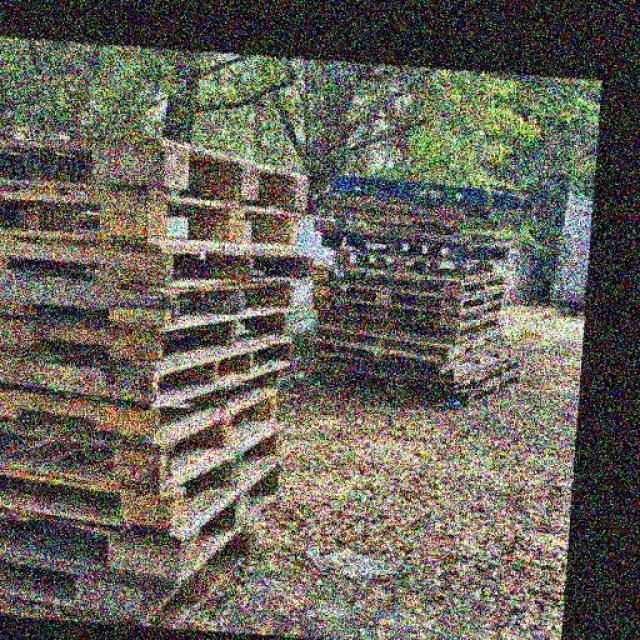non-igps: (0, 449, 290, 596), (0, 413, 300, 552), (0, 496, 268, 639), (0, 380, 291, 510), (0, 115, 316, 226), (0, 170, 308, 267), (0, 359, 291, 460), (0, 292, 297, 388), (0, 323, 301, 417), (0, 219, 325, 299), (0, 266, 302, 334), (309, 206, 520, 258), (307, 340, 513, 392), (311, 319, 504, 371), (322, 170, 537, 216), (319, 188, 522, 235), (307, 260, 520, 304), (307, 331, 504, 378), (307, 289, 505, 335), (311, 303, 505, 349), (305, 280, 516, 322), (316, 224, 514, 265), (329, 241, 499, 284), (456, 359, 526, 408)
